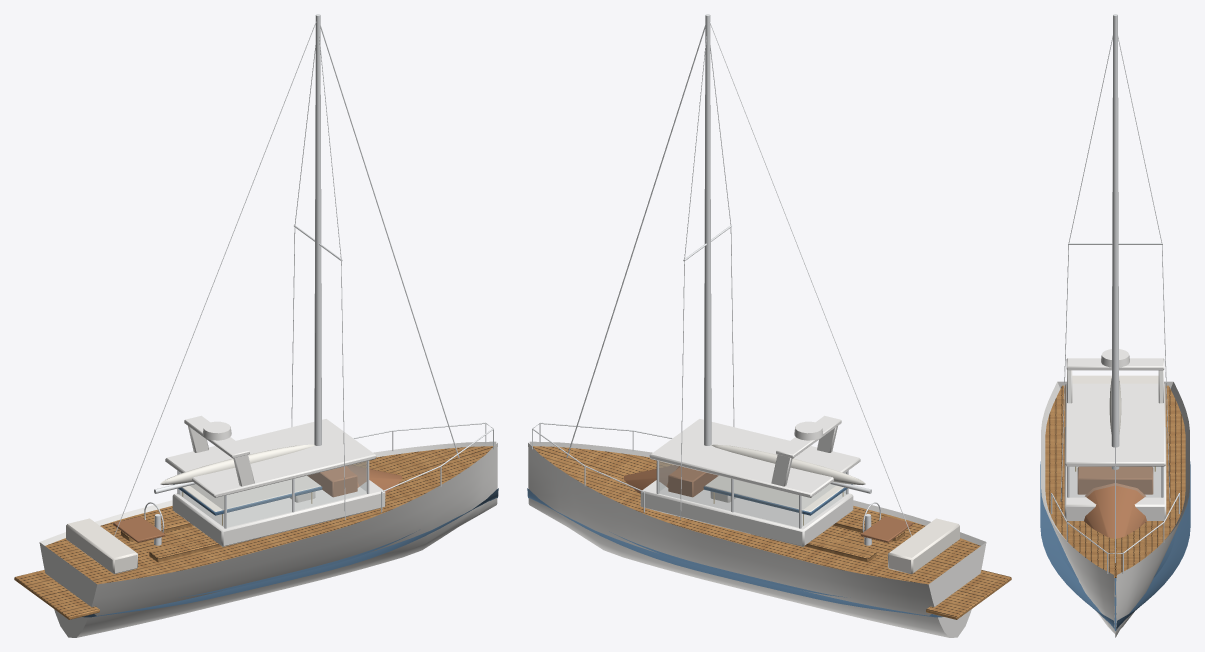
Rendered from harbor_fleet.glb.
The picture shows the model from 3 angles, left to right: view 1: azimuth 30°, elevation 25°; view 2: azimuth 150°, elevation 25°; view 3: azimuth 270°, elevation 25°; orthographic projection.
Parts seen in each view (by area): view 1: Yacht_Hull, Yacht_TeakDeck, Sloop_MastRig, Yacht_GlassCabin, Yacht_LeatherSeats, Yacht_NavyStripe, Yacht_Mahogany, Launch_BiminiCanvas, Sloop_Teak, Sloop_FurledSail, Yacht_Stainless, Launch_Mahogany; view 2: Yacht_Hull, Yacht_TeakDeck, Sloop_MastRig, Yacht_GlassCabin, Yacht_LeatherSeats, Yacht_NavyStripe, Yacht_Mahogany, Launch_BiminiCanvas, Sloop_Teak, Sloop_FurledSail, Yacht_Stainless, Launch_Mahogany; view 3: Yacht_Hull, Yacht_TeakDeck, Sloop_MastRig, Yacht_NavyStripe, Launch_Mahogany, Yacht_GlassCabin, Yacht_Mahogany, Yacht_Stainless, Yacht_LeatherSeats, Sloop_NavyStripe, Sloop_FurledSail.
Part boxes in pixels (x1,y1,x2,y2): Yacht_Hull: (39, 415, 497, 637); Yacht_TeakDeck: (14, 446, 492, 619); Sloop_MastRig: (114, 14, 459, 545); Yacht_GlassCabin: (179, 461, 366, 527); Yacht_LeatherSeats: (66, 491, 315, 574); Yacht_NavyStripe: (82, 488, 498, 617); Yacht_Mahogany: (113, 467, 357, 542); Launch_BiminiCanvas: (182, 476, 320, 511); Sloop_Teak: (121, 516, 221, 562); Sloop_FurledSail: (160, 444, 314, 484); Yacht_Stainless: (177, 422, 493, 528); Launch_Mahogany: (345, 465, 401, 493); Yacht_Hull: (528, 415, 986, 637); Yacht_TeakDeck: (533, 446, 1011, 619); Sloop_MastRig: (566, 14, 911, 545); Yacht_GlassCabin: (659, 461, 846, 527); Yacht_LeatherSeats: (710, 491, 959, 574); Yacht_NavyStripe: (527, 488, 943, 617); Yacht_Mahogany: (668, 467, 912, 542); Launch_BiminiCanvas: (705, 476, 843, 511); Sloop_Teak: (804, 516, 904, 562); Sloop_FurledSail: (711, 444, 865, 484); Yacht_Stainless: (532, 422, 848, 528); Launch_Mahogany: (624, 465, 680, 493); Yacht_Hull: (1041, 349, 1189, 637); Yacht_TeakDeck: (1045, 385, 1185, 577); Sloop_MastRig: (1060, 14, 1170, 562); Yacht_NavyStripe: (1040, 461, 1190, 631); Launch_Mahogany: (1084, 483, 1146, 538); Yacht_GlassCabin: (1070, 467, 1160, 497); Yacht_Mahogany: (1077, 466, 1153, 494); Yacht_Stainless: (1051, 466, 1179, 573); Yacht_LeatherSeats: (1072, 375, 1158, 383); Sloop_NavyStripe: (1055, 532, 1175, 615); Sloop_FurledSail: (1109, 378, 1121, 433).
Bounding box in the file's own units: 12.25 × 14.4 × 3.48.
Materials: 9 (1 with a texture image).
